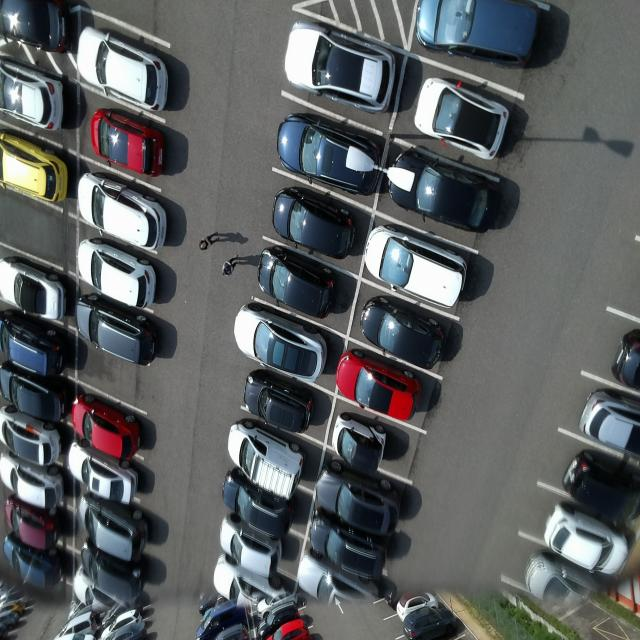car: (285, 21, 397, 117), (390, 145, 496, 240), (363, 223, 470, 312), (277, 111, 382, 199), (415, 74, 512, 164), (416, 1, 545, 66), (234, 303, 333, 385), (78, 28, 170, 115), (79, 172, 171, 251), (359, 290, 447, 371), (77, 294, 166, 372), (271, 185, 358, 262), (339, 344, 423, 423), (226, 420, 307, 499), (311, 507, 394, 584), (78, 237, 162, 313), (545, 503, 631, 577), (314, 468, 404, 536), (257, 247, 336, 322), (90, 108, 170, 181), (221, 468, 295, 538), (80, 492, 155, 561), (70, 394, 147, 459), (68, 442, 147, 505), (244, 366, 316, 435), (1, 257, 70, 327), (1, 311, 71, 378), (218, 516, 288, 582), (1, 360, 68, 424), (81, 539, 146, 604), (1, 406, 61, 472), (4, 534, 70, 591), (334, 411, 389, 470), (1, 461, 64, 512), (4, 496, 65, 548)
free_space: (1, 180, 84, 279), (71, 323, 153, 416)
